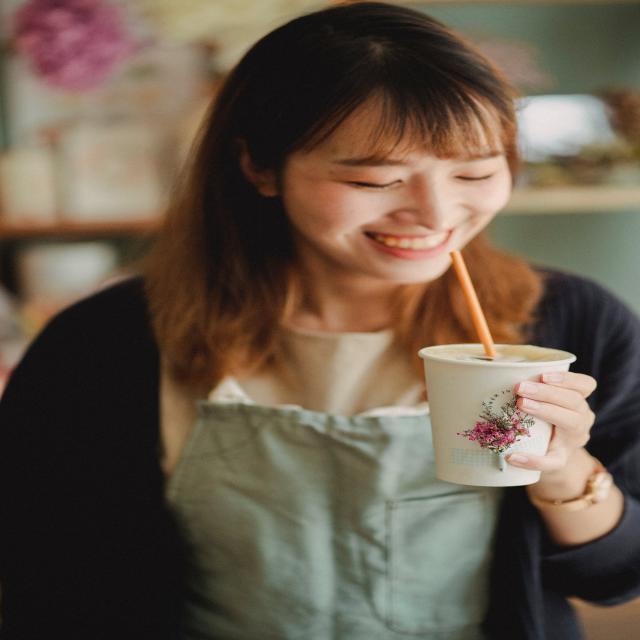cup: (418, 337, 578, 489)
